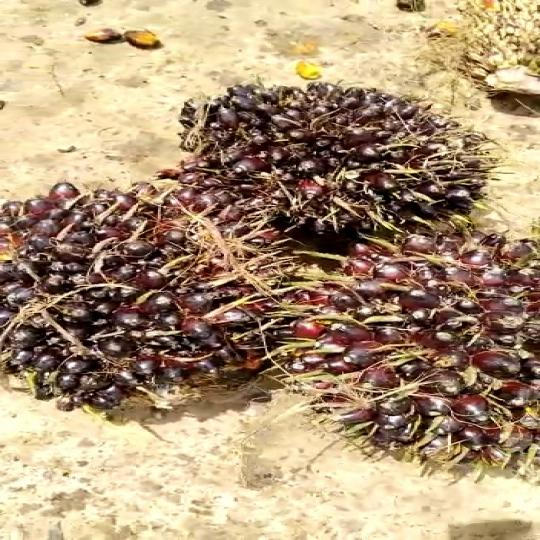mentah: (0, 170, 316, 430), (272, 218, 540, 492), (166, 75, 501, 243)
